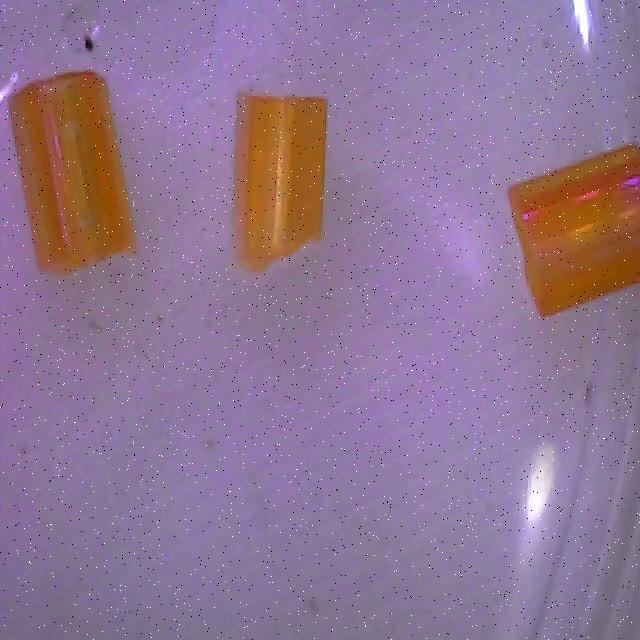fragments: (6, 66, 137, 277), (235, 95, 326, 272), (1, 0, 1, 0)
